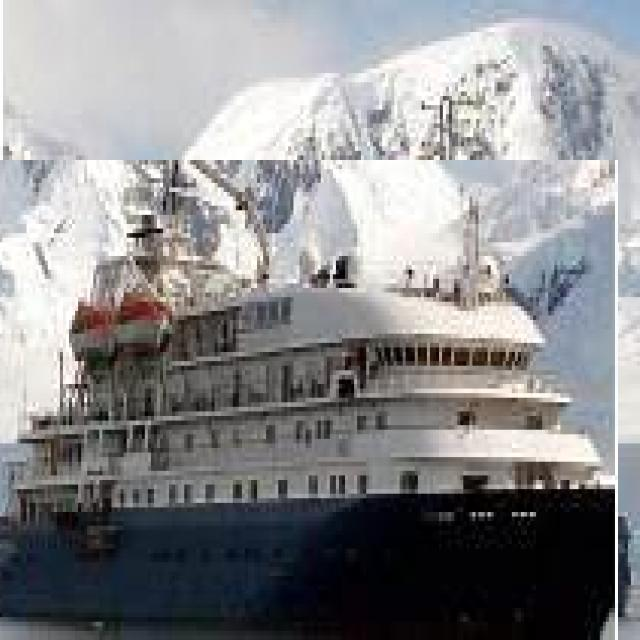PassengerShip: (0, 160, 618, 640)
